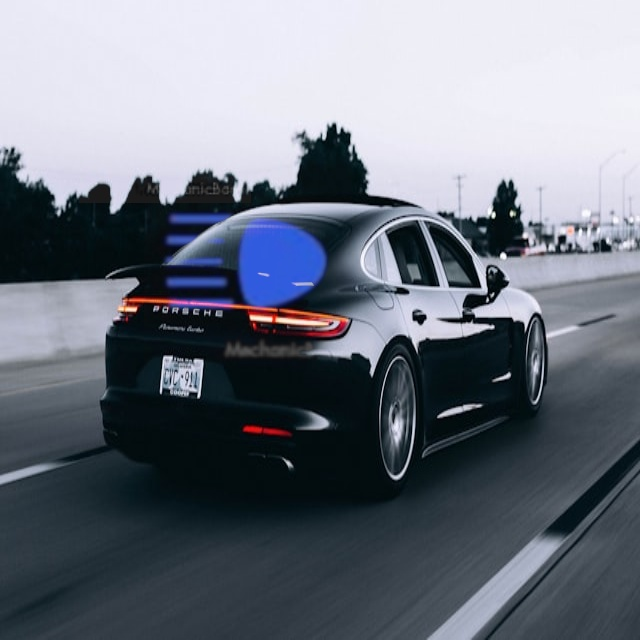symbol: (144, 159, 352, 367), (79, 31, 251, 203)
